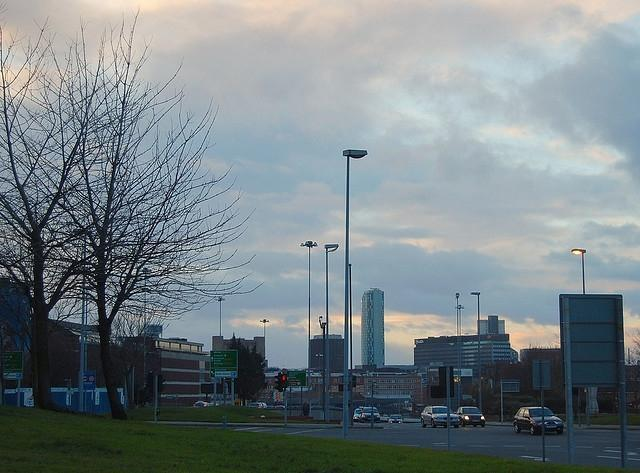car: (420, 406, 460, 429), (513, 406, 542, 436), (454, 407, 486, 428), (544, 407, 564, 436), (360, 407, 382, 424), (192, 401, 214, 408), (248, 402, 264, 411), (387, 415, 402, 424), (352, 408, 363, 419)
